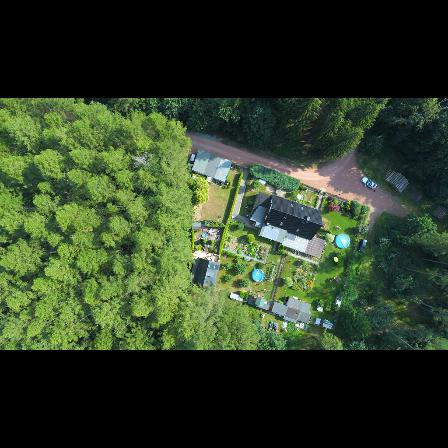Dead: (126, 148, 154, 172)
